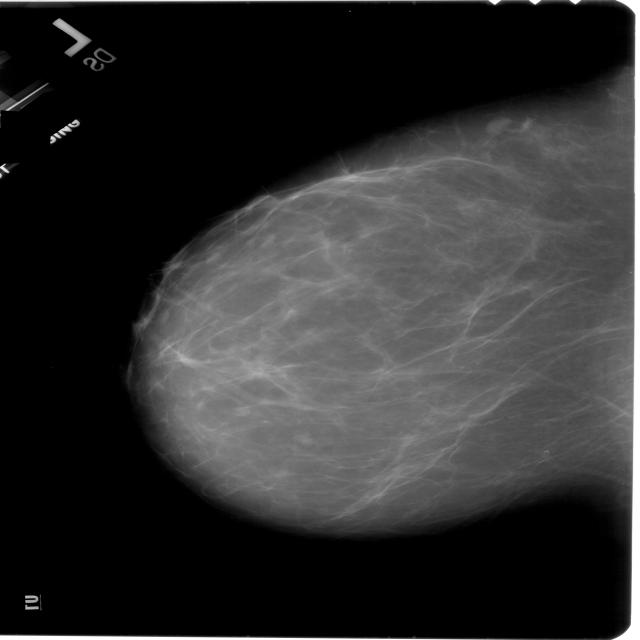normal: (110, 66, 640, 560)
